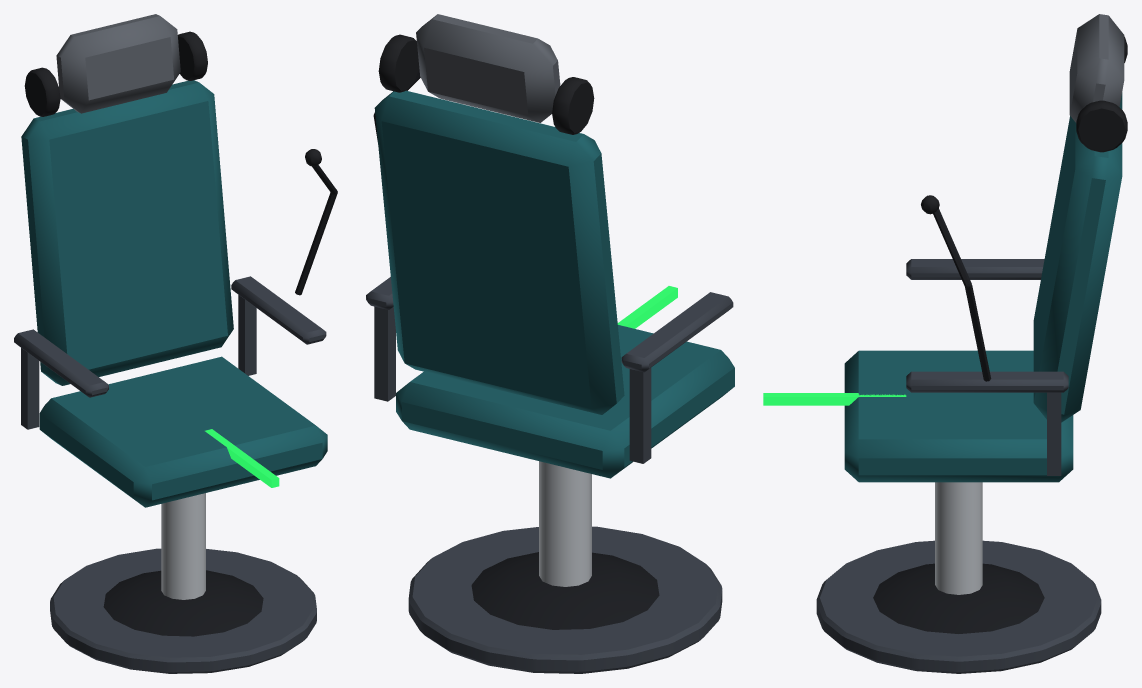
The model's file is seat_comms_chair.glb.
The picture shows the model from 3 angles, left to right: view 1: azimuth 30°, elevation 25°; view 2: azimuth 150°, elevation 25°; view 3: azimuth 270°, elevation 25°; orthographic projection. The views are drawn at different scales.
Visible parts, largest first — view 1: seat_comms_chair; view 2: seat_comms_chair; view 3: seat_comms_chair.
Boxes of the visible parts, x1=… form: seat_comms_chair: x1=14, y1=14, x2=337, y2=673; seat_comms_chair: x1=366, y1=14, x2=734, y2=673; seat_comms_chair: x1=763, y1=14, x2=1127, y2=673.
Size of the model in its own units: 0.7169 by 1.34 by 0.7637.
